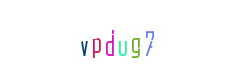7: (98, 0, 178, 80)
D: (80, 0, 160, 80)
G: (96, 0, 176, 80)
P: (64, 0, 144, 80)
U: (82, 0, 162, 80)
V: (44, 0, 124, 80)
